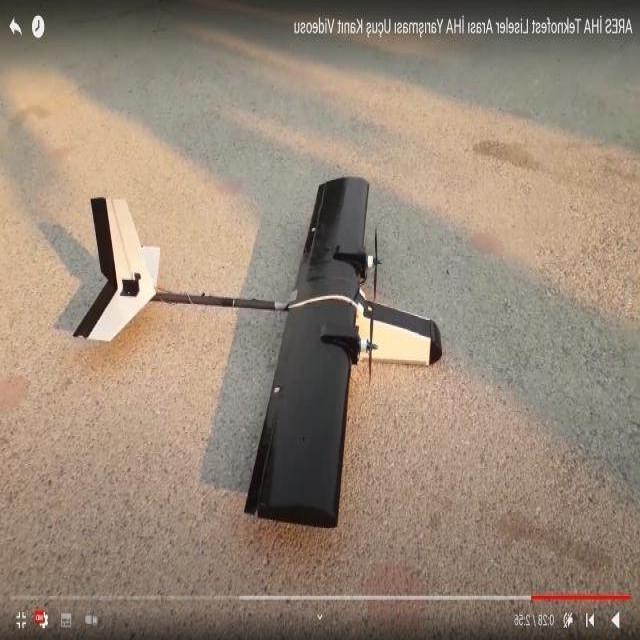iha: (58, 154, 464, 474)
